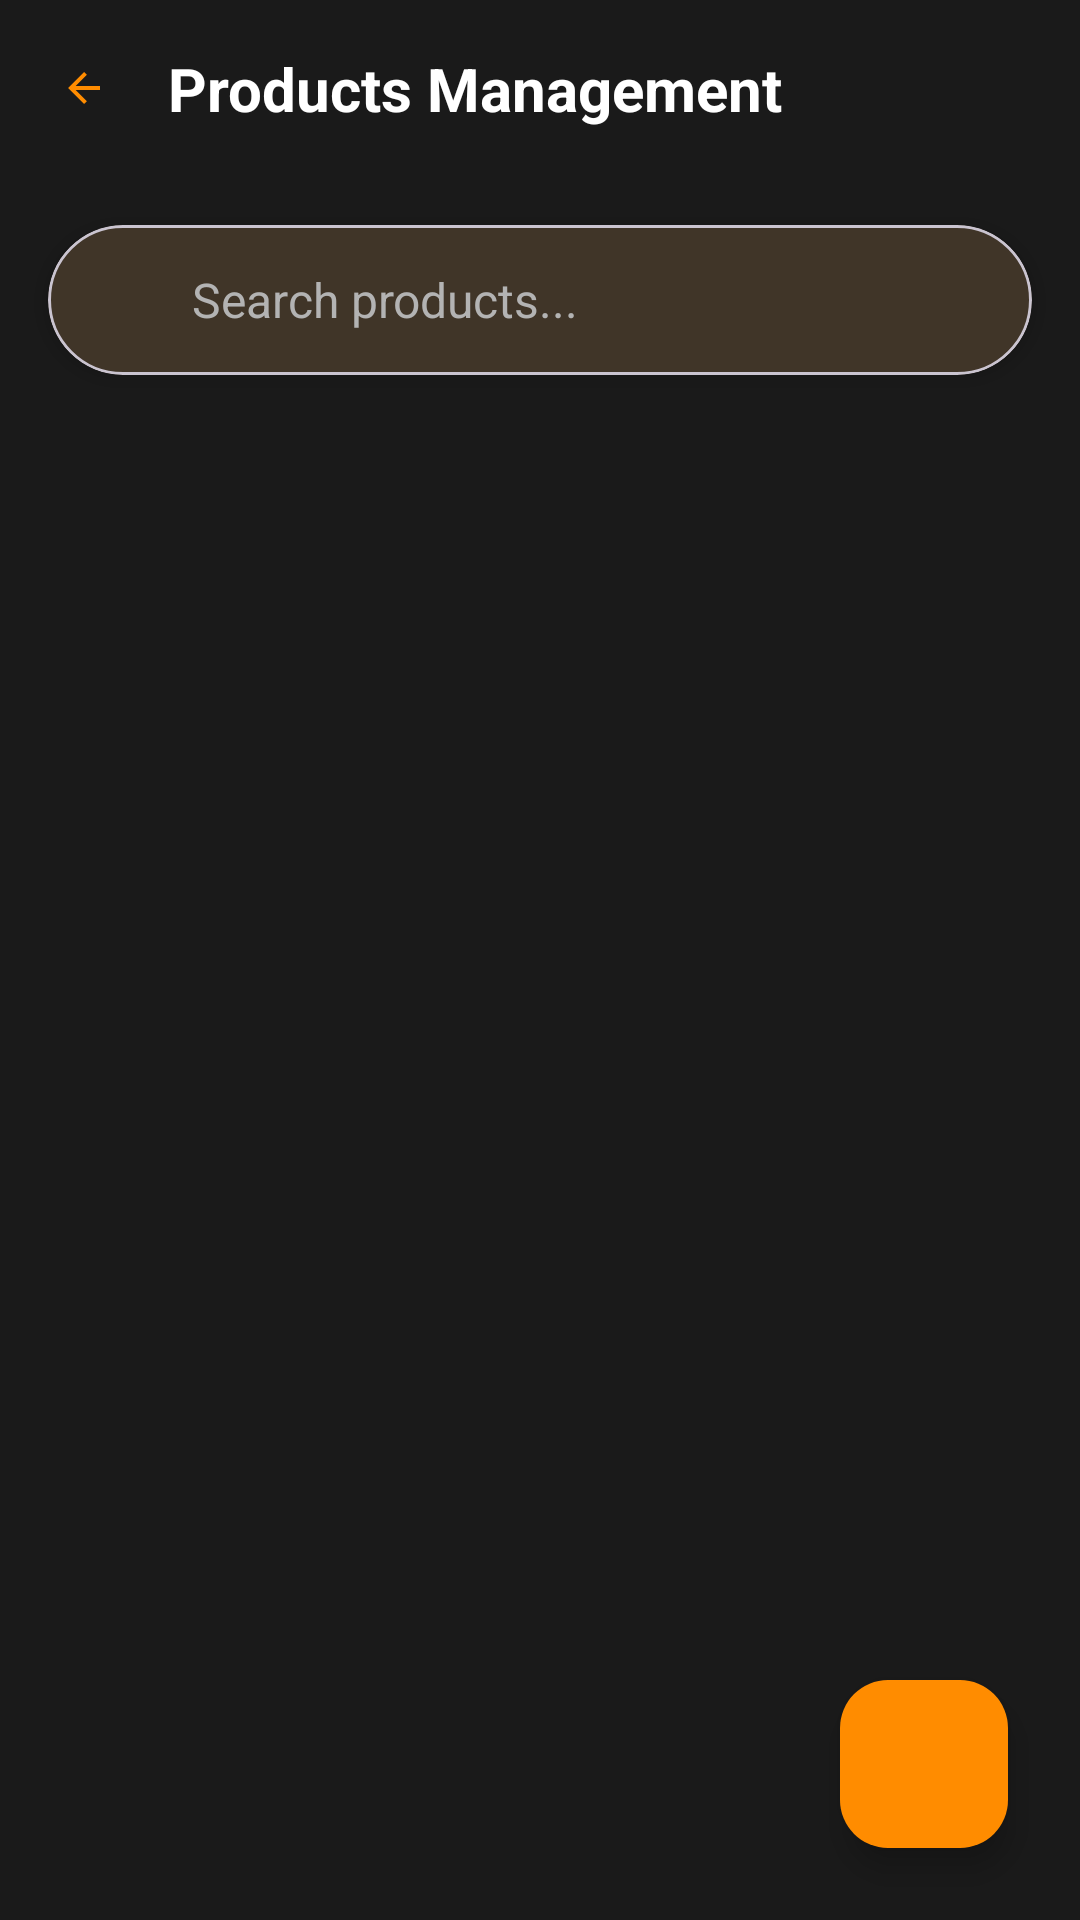

Where to tap for icons on this 1080x1920 app screen, as (x,y):
arrow back: (84,88)
